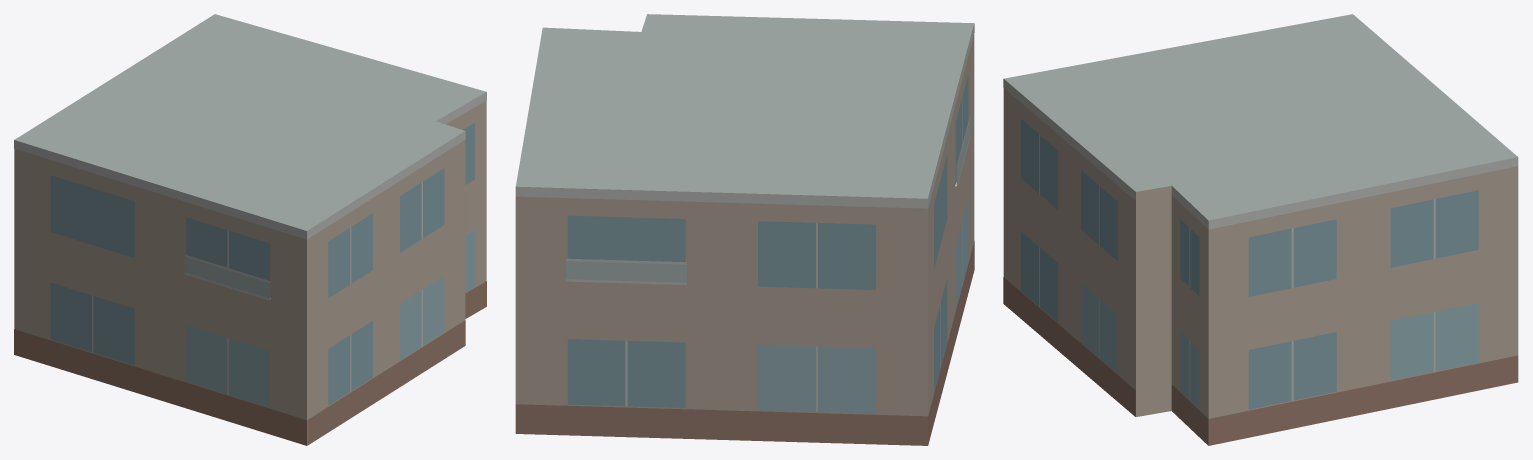
File: survey-upis-32674807.glb
3 renders of one model, left to right at view 1: azimuth 30°, elevation 25°; view 2: azimuth 150°, elevation 25°; view 3: azimuth 270°, elevation 25°, orthographic. The views are drawn at different scales.
Visible parts, largest first — view 1: survey-upis-32674807.tmp; view 2: survey-upis-32674807.tmp; view 3: survey-upis-32674807.tmp.
Boxes of the visible parts, x1,y1,x2,y2 form: survey-upis-32674807.tmp: [14, 14, 486, 445]; survey-upis-32674807.tmp: [515, 14, 974, 445]; survey-upis-32674807.tmp: [1003, 14, 1518, 445].
Bounding box in the file's own units: 12.01 × 6.1 × 12.64.
